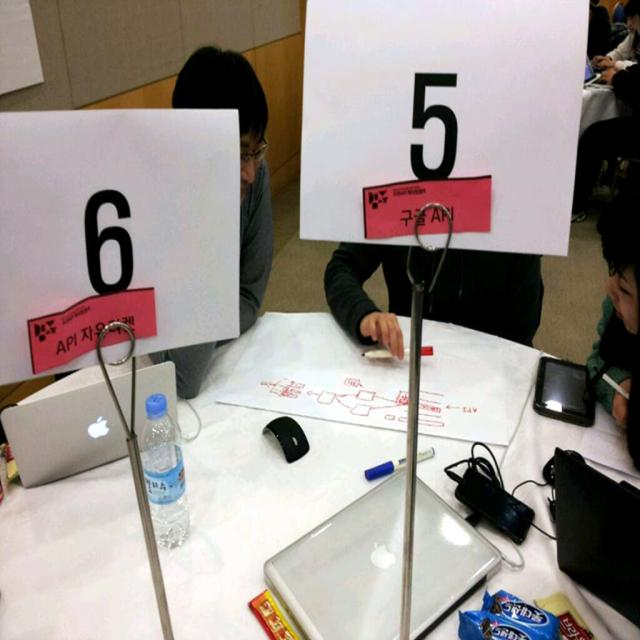Computer-mouse: (262, 412, 310, 461)
